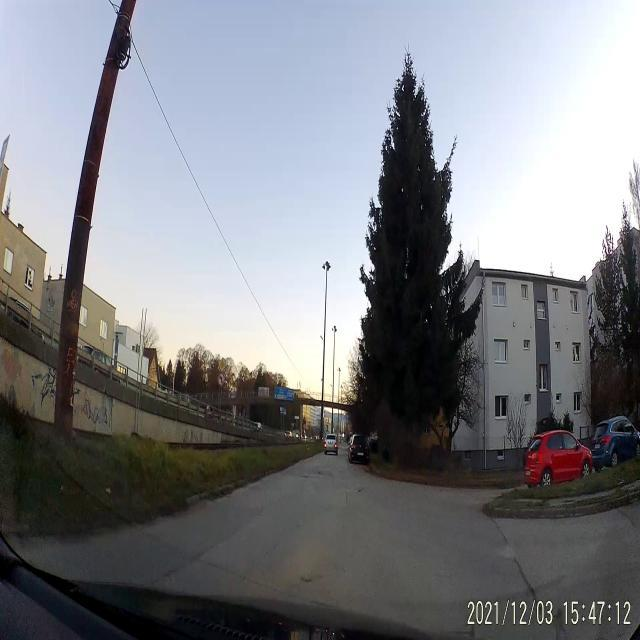Pothole: (302, 468, 333, 480)
